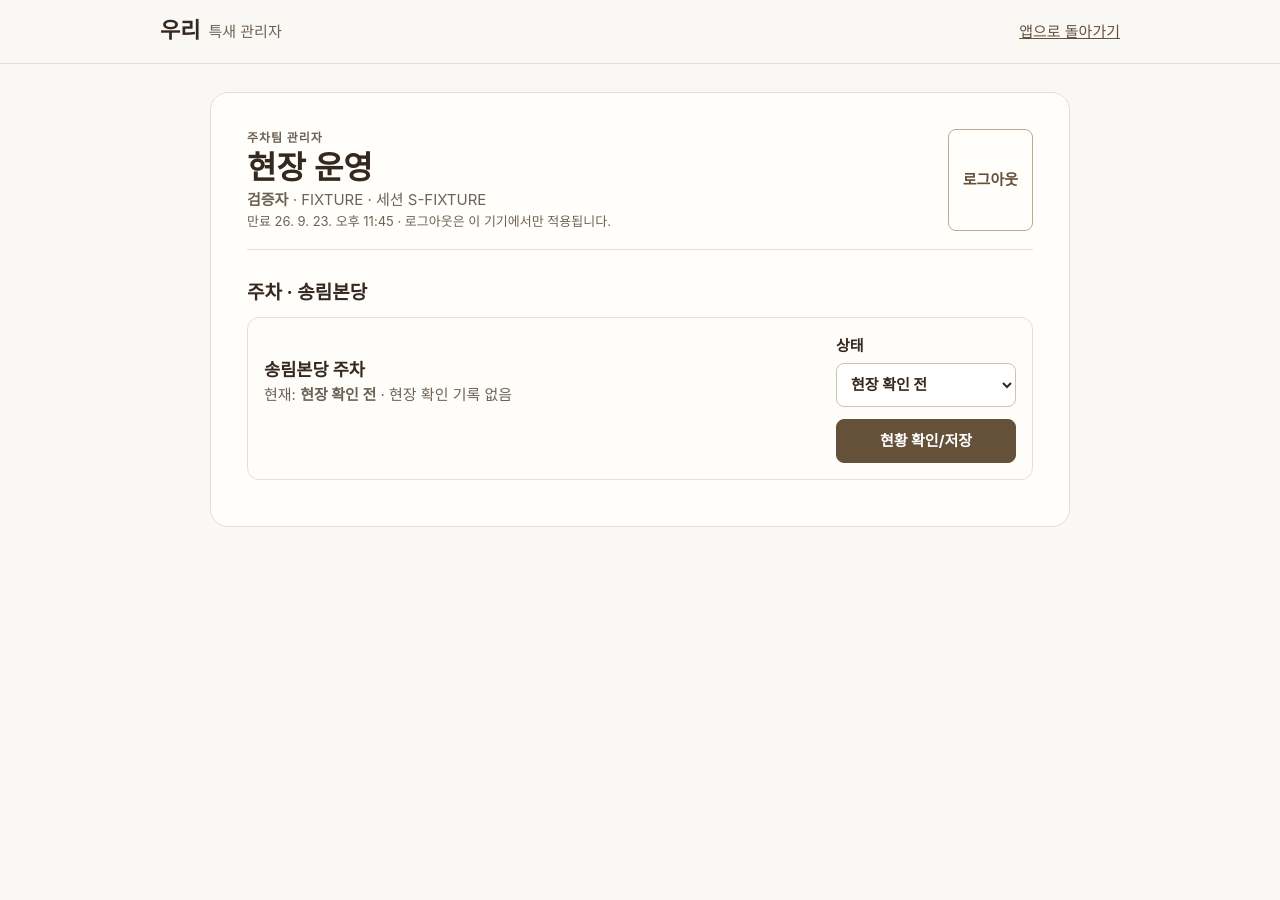
retains first-edit version after a newer poll rather than silently rebasing the user draft
This screenshot has width=1280, height=900.
Select "만차" in the dropdown named "송림본당 주차 상태": [926, 385] box [836, 363, 1016, 407]
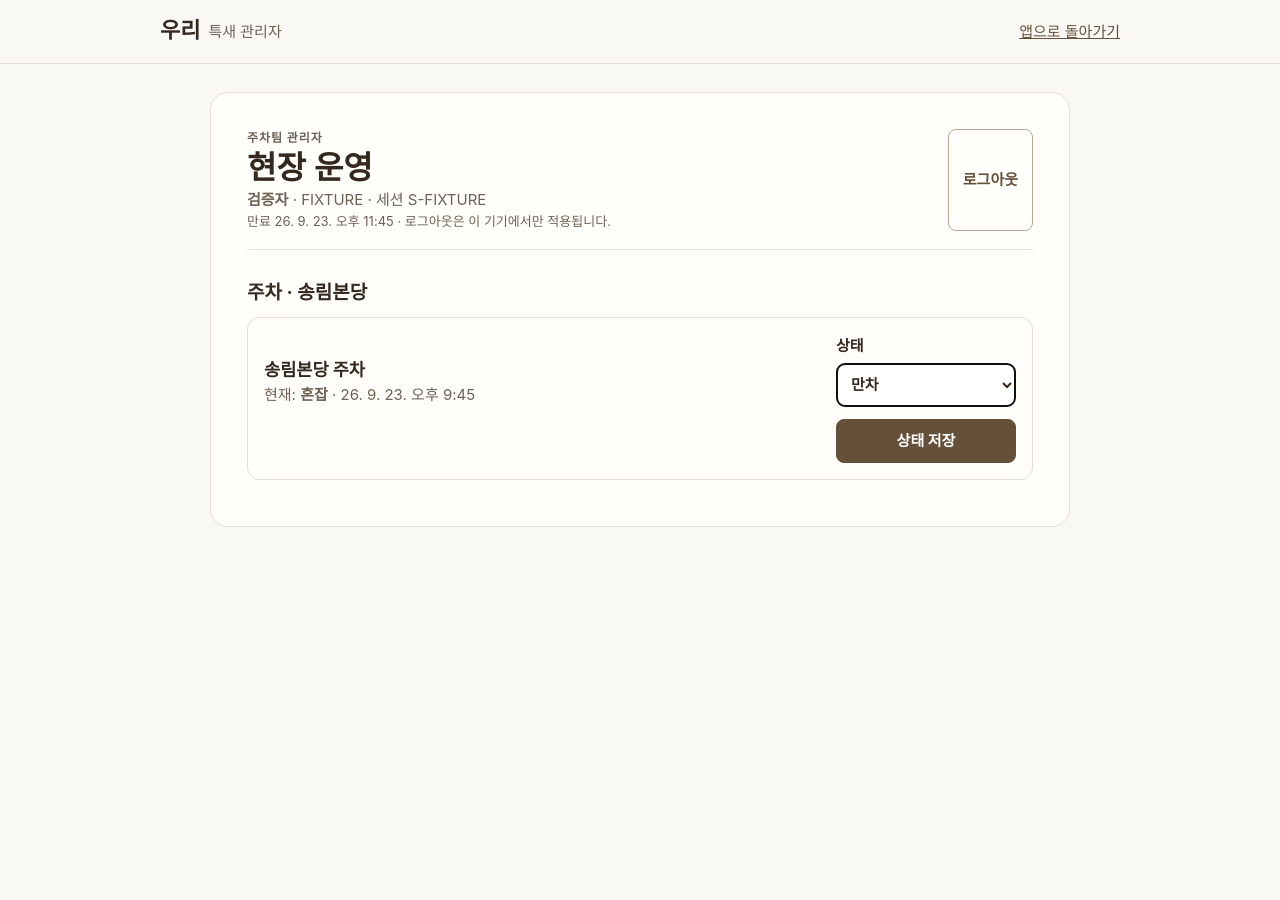
Click the button "상태 저장": [926, 441] box [836, 419, 1016, 463]
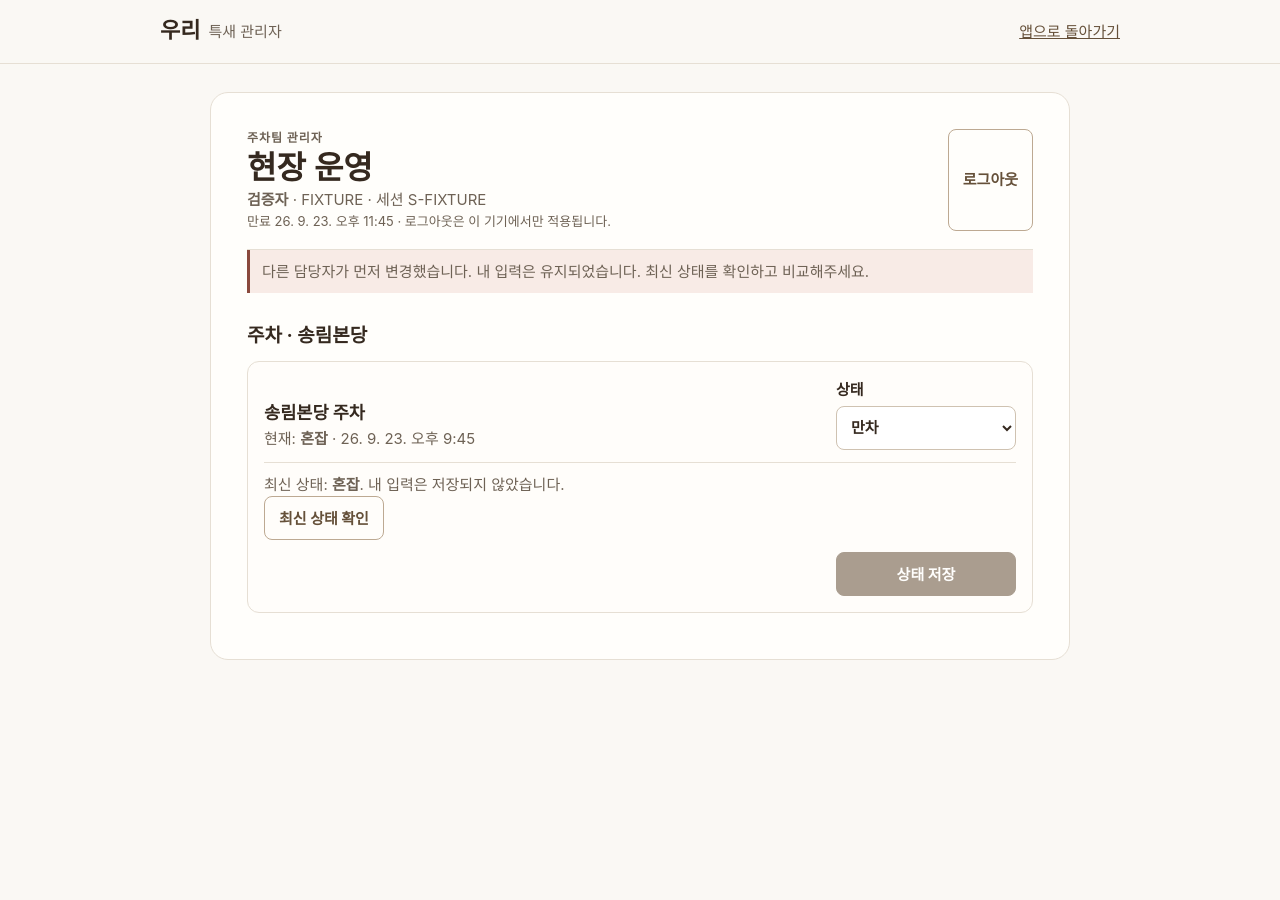
expect the text "다른 담당자가 먼저 변경했습니다. 내 입력은 유지되었습니다. 최신 상태를 확인하고 비교해주세요." is shown: met, box [247, 250, 1033, 293]
